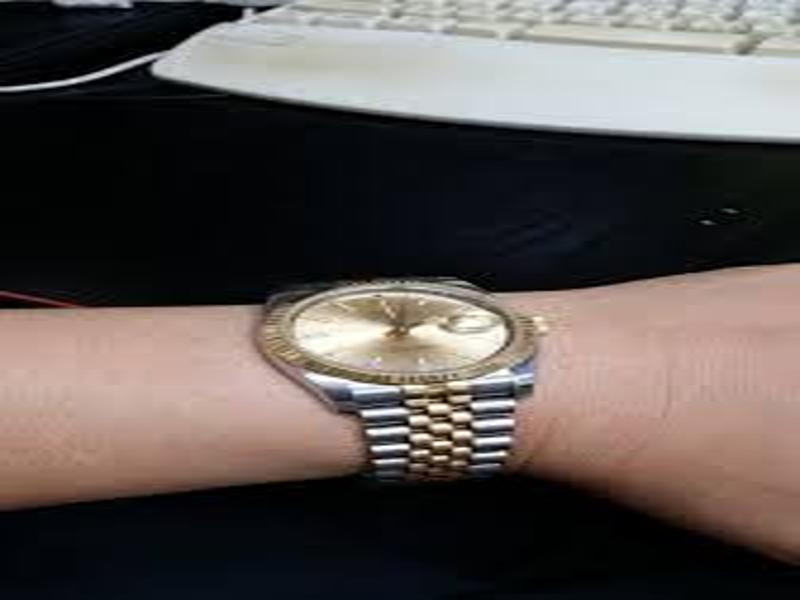watch: (261, 271, 552, 485)
